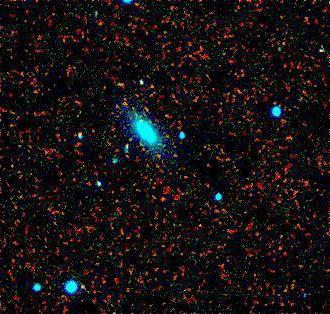star: (149, 183, 179, 213)
